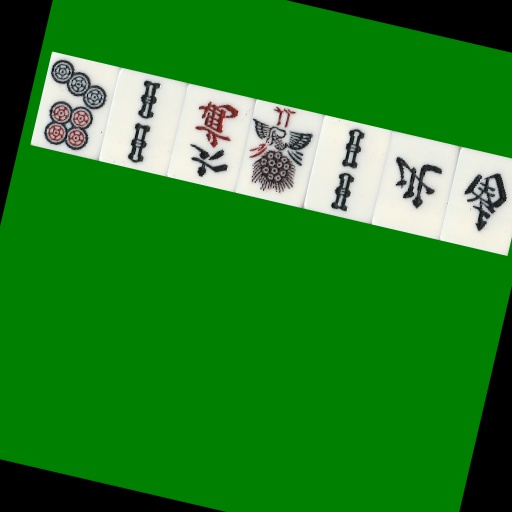1s: (231, 99, 317, 206)
2s: (93, 74, 179, 181), (300, 111, 386, 218)
6m: (162, 86, 248, 193)
7p: (24, 62, 110, 168)
north: (369, 124, 455, 230)
south: (438, 136, 511, 243)
